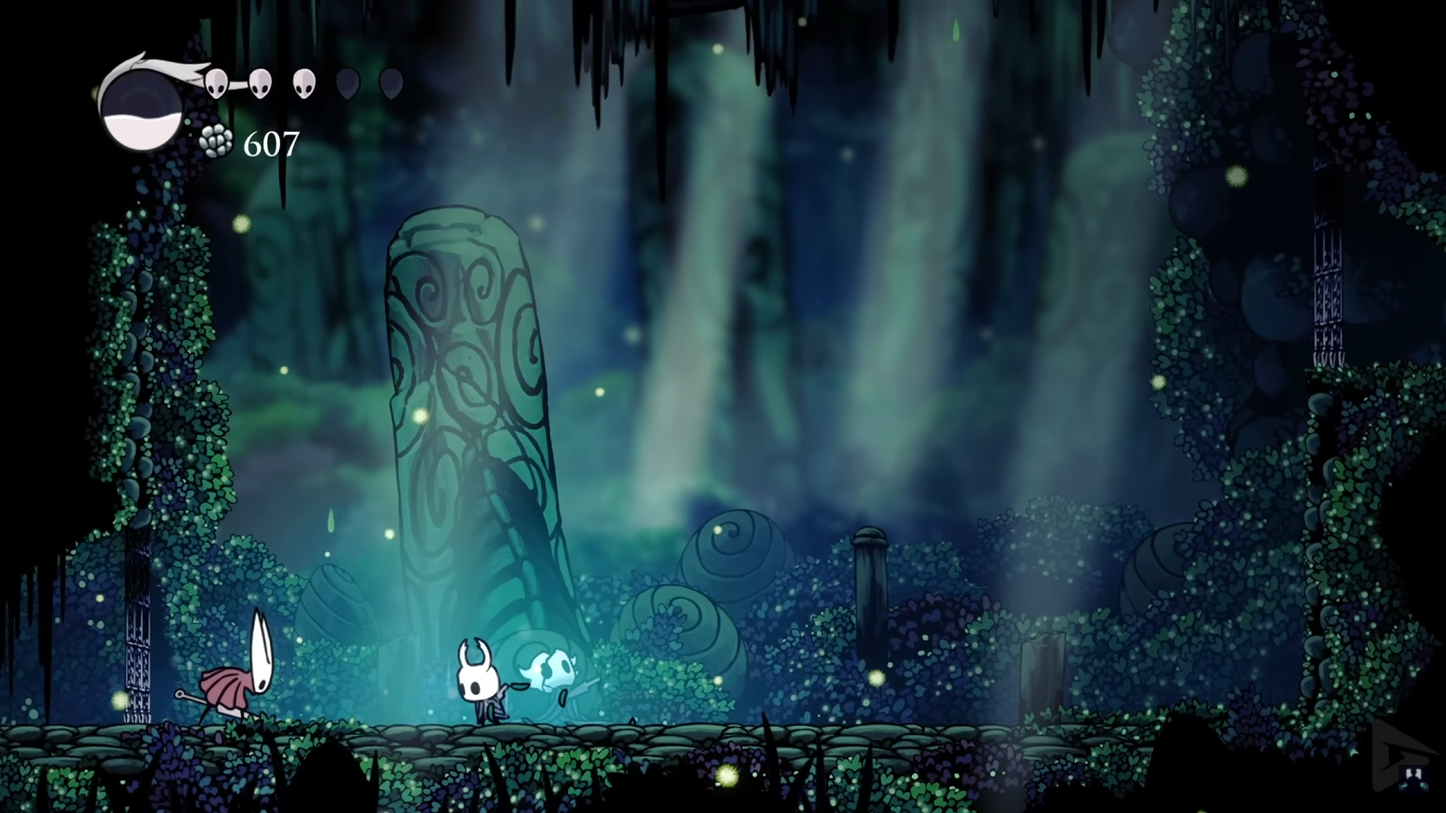HK: (450, 637, 511, 727)
